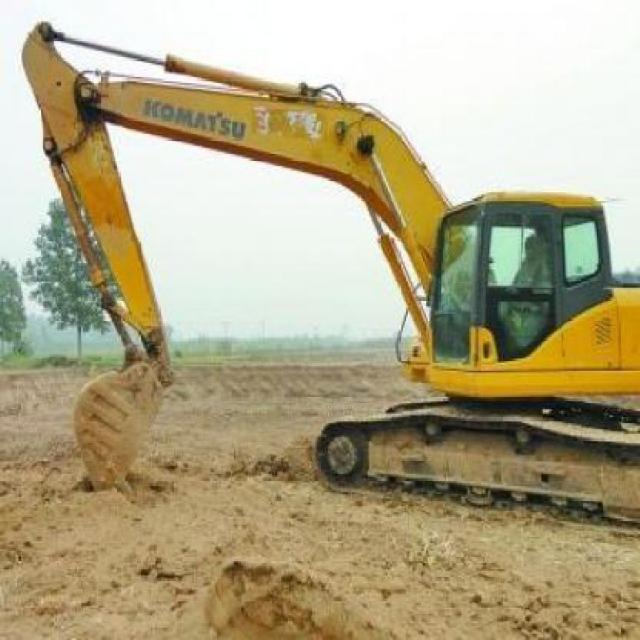Excavator: (16, 16, 638, 527)
